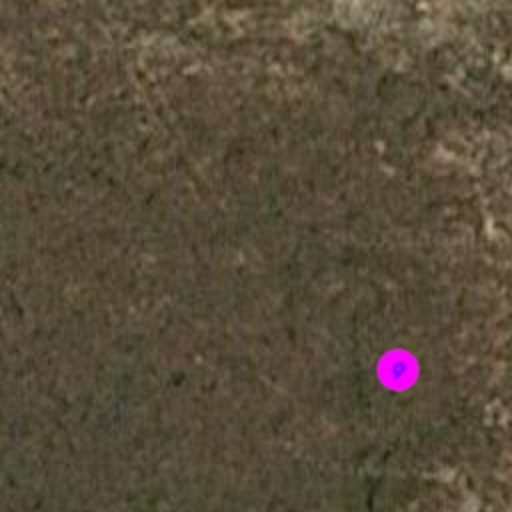circle: (368, 340, 428, 400)
